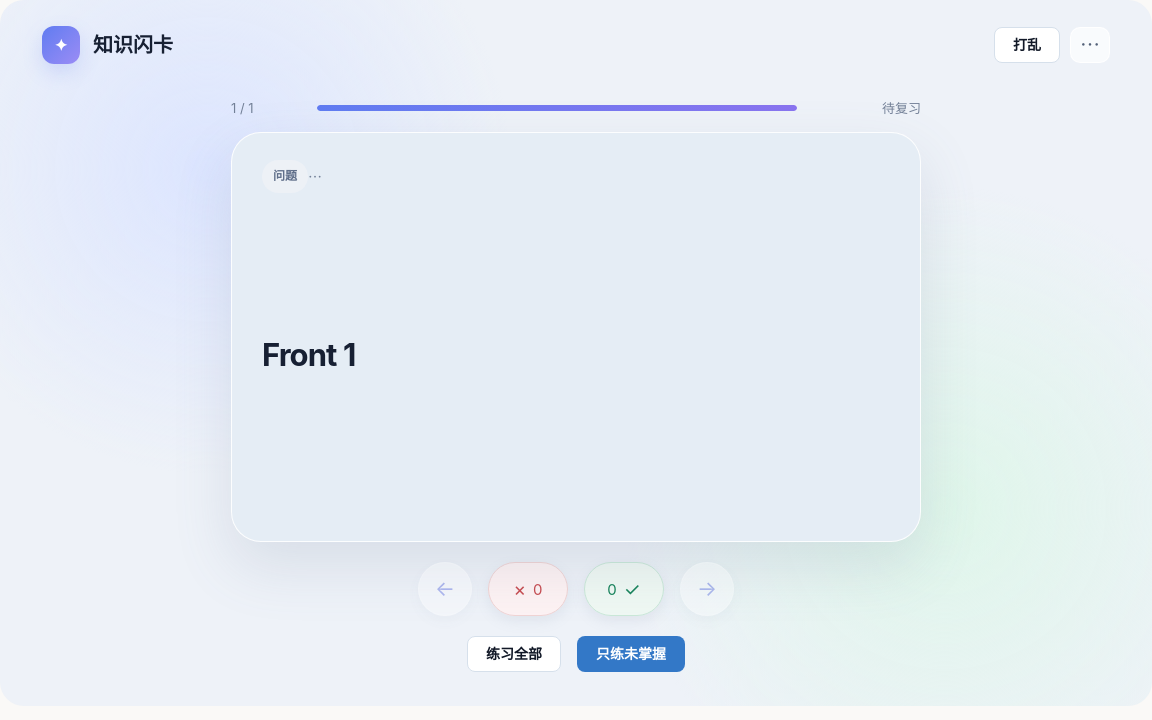
generated content renderers › adds a flashcard from the more menu and persists the deck
The width and height of the screenshot is (1152, 720).
Click the button named "更多操作" at x=1090, y=45, box [1070,27,1110,63]
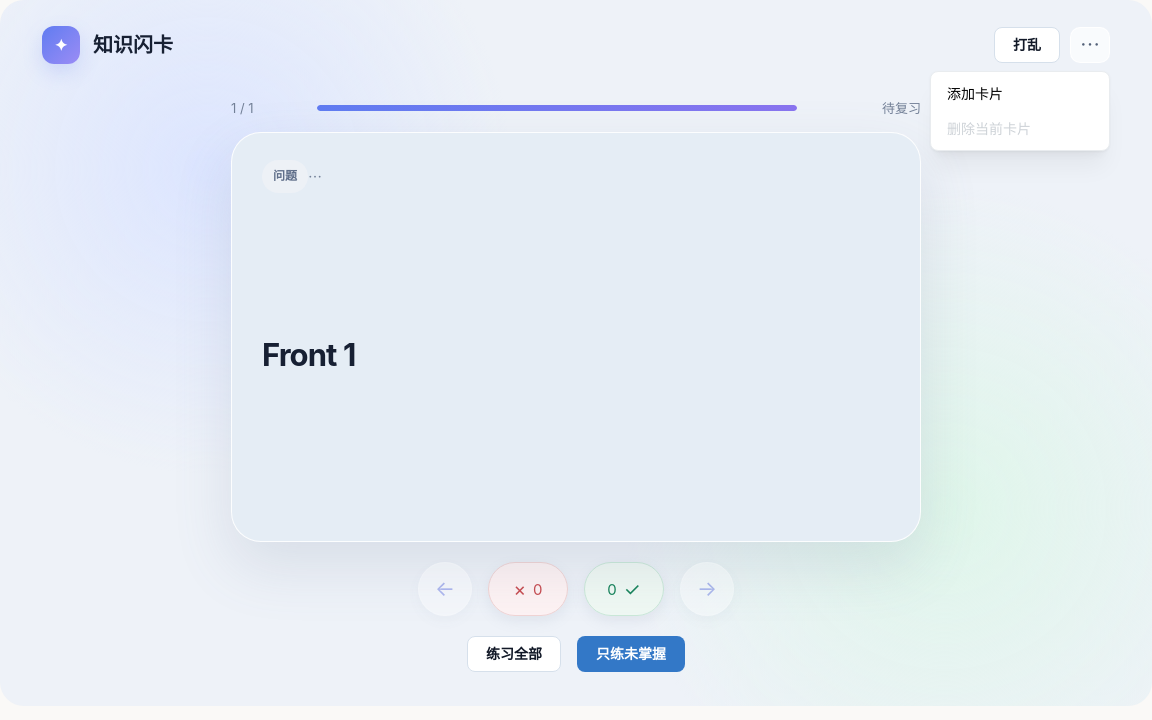
Click the menu item "添加卡片" at x=1020, y=94, box [935,76,1105,111]
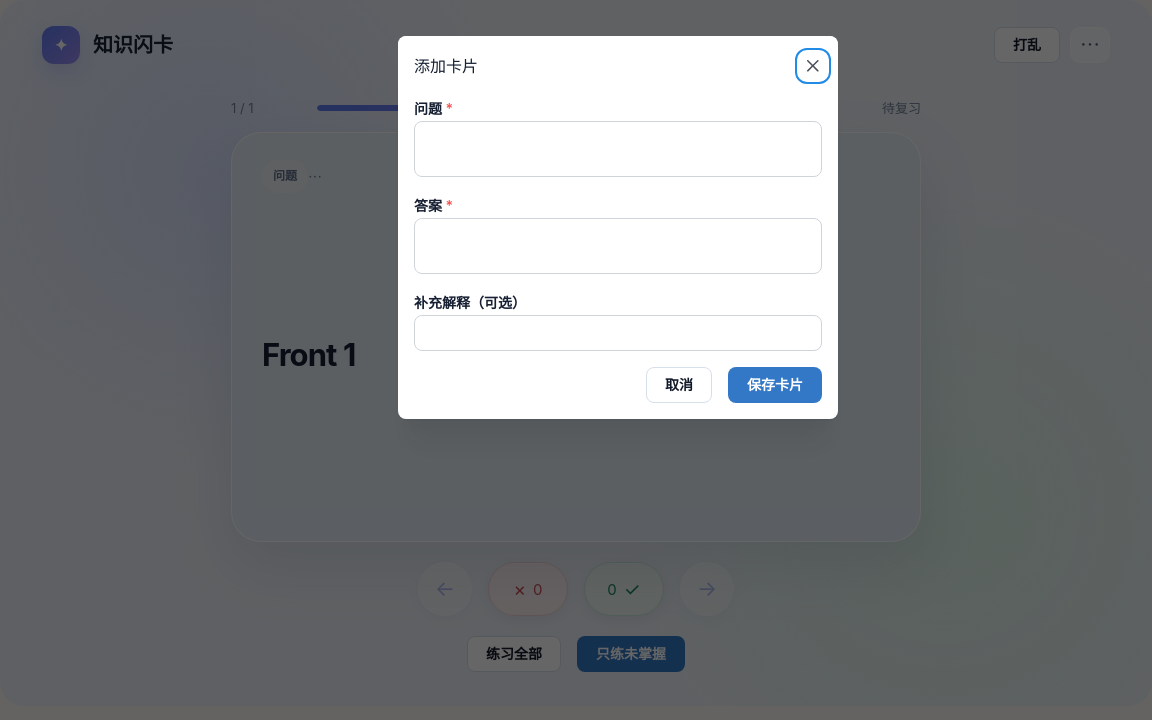
Type "New front" into the text box labelled "问题" at x=618, y=149, box [414,121,822,177]
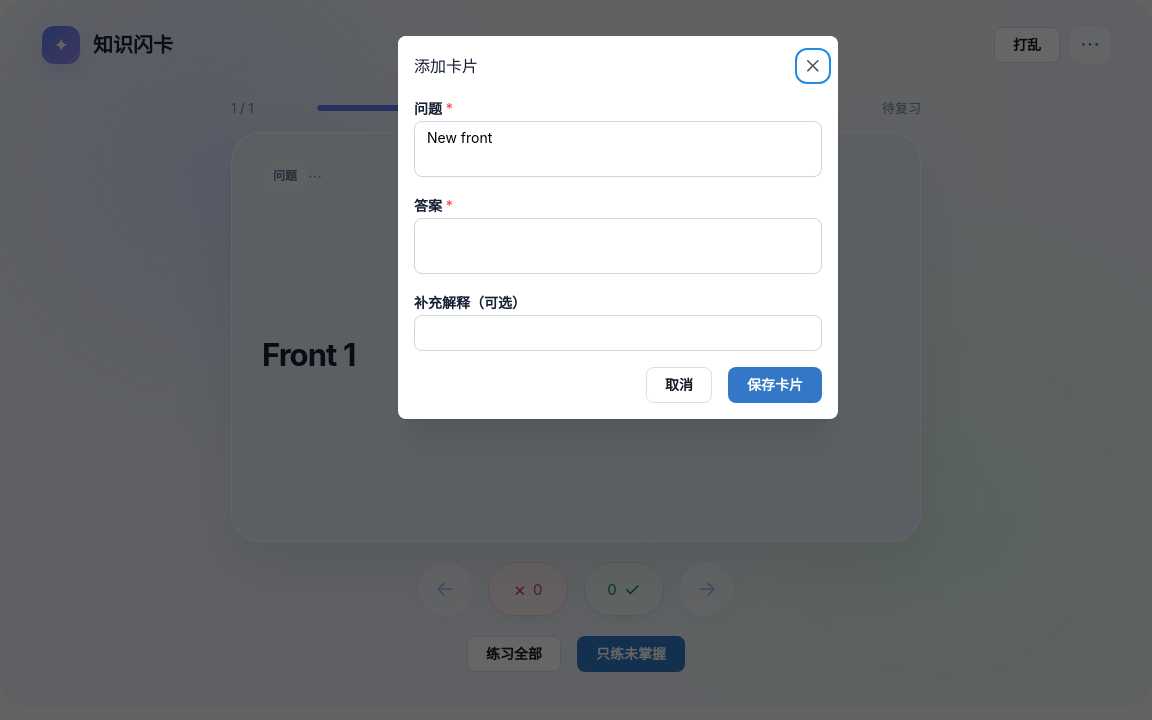
Type "New back" into the text box labelled "答案" at x=618, y=246, box [414,218,822,274]
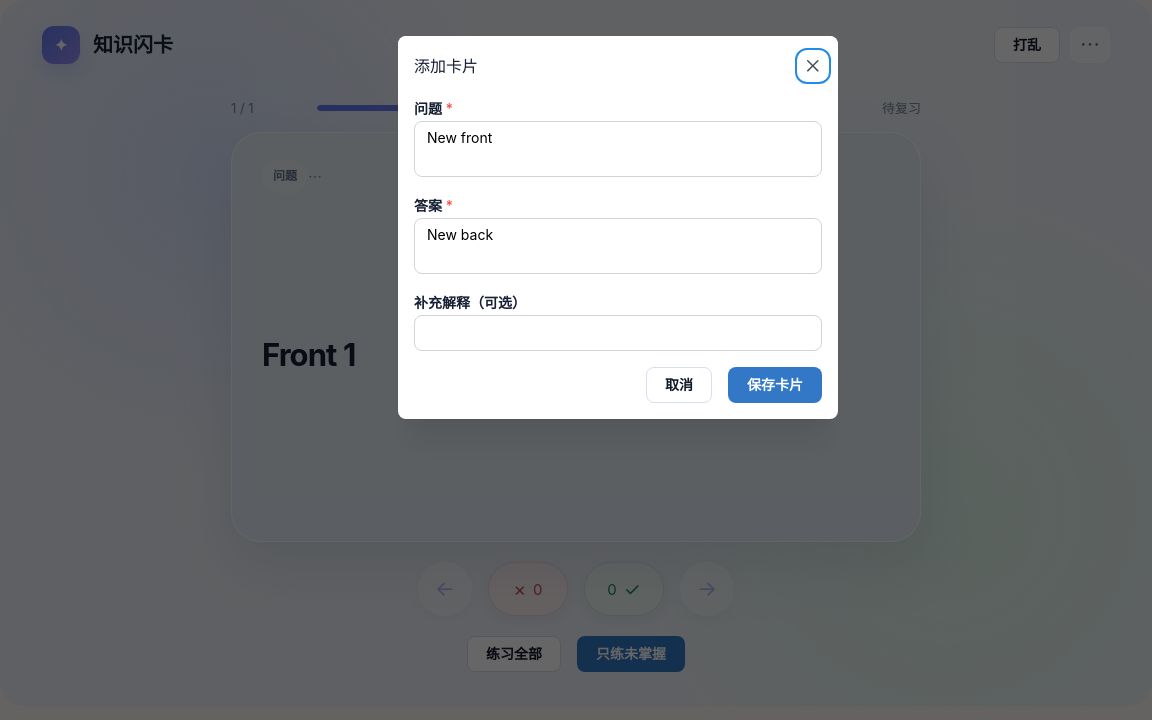
Click the button "保存卡片" at x=775, y=385, box [728,367,822,403]
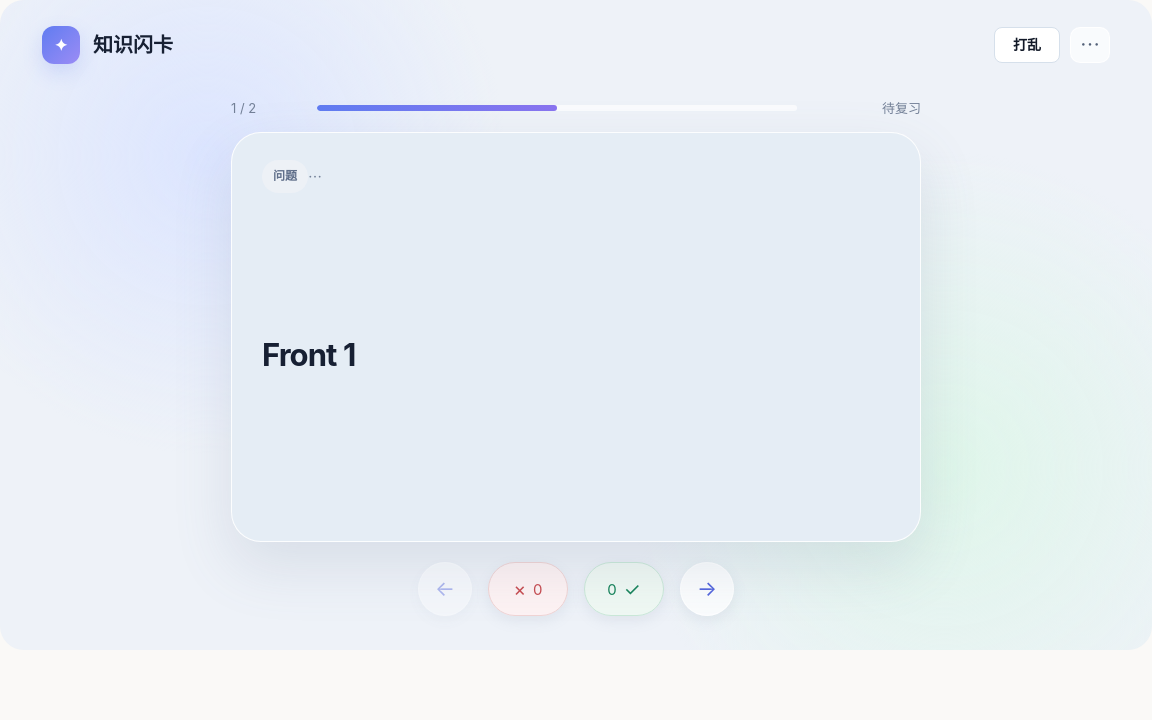
Expected: the text "1 / 2" is shown, [231,100,256,116]
